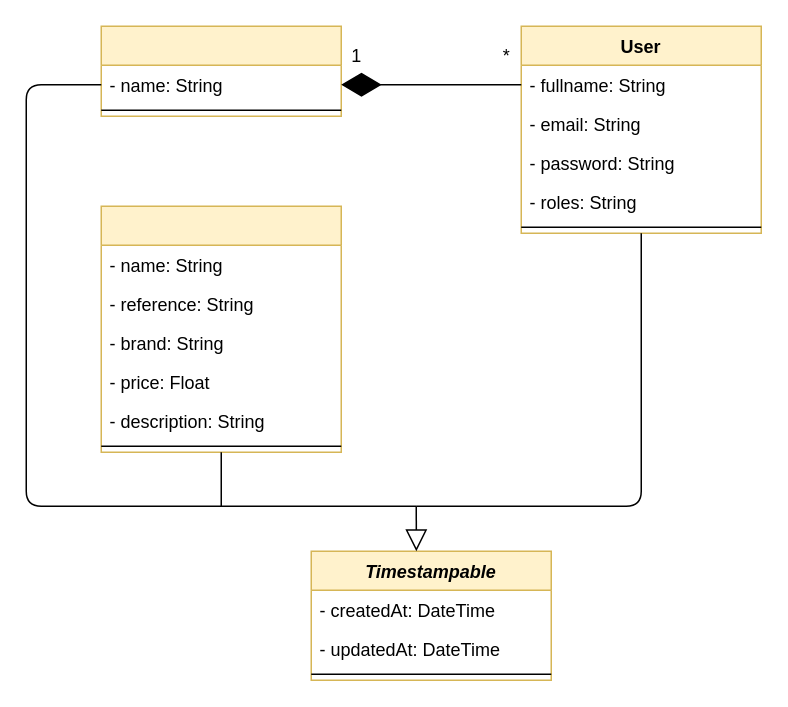
Image size: 788x707. Some labels were removed from this diagram. The shapes that lost their labels are listed below. From the top down, each one's box as (x1, y1, x2, y2) in pixels, then its label:
(100, 25, 341, 116): Client
(100, 205, 341, 452): Telephone
